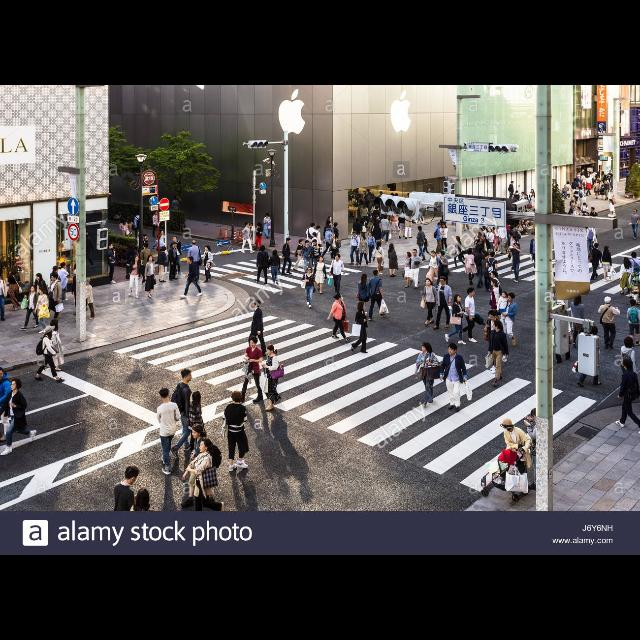head: (126, 466, 140, 484), (198, 439, 212, 453), (137, 488, 149, 504), (10, 378, 22, 392), (192, 424, 202, 440), (532, 408, 542, 422), (182, 371, 194, 382), (492, 321, 504, 332), (503, 419, 513, 431), (448, 344, 458, 356), (488, 310, 498, 322), (192, 391, 202, 402), (160, 390, 170, 400), (233, 392, 243, 402), (624, 360, 634, 370), (624, 337, 634, 347), (250, 338, 258, 349), (46, 326, 54, 336), (50, 320, 60, 328), (267, 346, 275, 356), (508, 292, 516, 302), (38, 288, 46, 296), (252, 300, 260, 308), (358, 303, 366, 311), (335, 294, 343, 302), (467, 288, 475, 296), (454, 295, 462, 303), (440, 277, 448, 285), (438, 250, 446, 258), (604, 297, 612, 305), (630, 300, 638, 308), (630, 252, 638, 260), (51, 274, 58, 282), (422, 343, 428, 352), (0, 367, 4, 380), (36, 274, 42, 282), (61, 262, 67, 270), (84, 278, 90, 286), (108, 242, 114, 250), (426, 278, 432, 286), (490, 280, 498, 286), (490, 272, 498, 278), (467, 248, 473, 256), (485, 252, 491, 260), (576, 296, 582, 304), (188, 258, 195, 264), (318, 255, 324, 262), (374, 270, 381, 276), (30, 286, 36, 292), (53, 266, 59, 272), (134, 256, 140, 262), (148, 256, 154, 262), (143, 243, 149, 249), (205, 246, 211, 252), (172, 236, 178, 242), (306, 268, 312, 274), (272, 250, 278, 256), (260, 245, 266, 251), (299, 240, 305, 246), (304, 241, 310, 247), (312, 232, 318, 238), (362, 275, 368, 281), (406, 253, 412, 259), (413, 250, 419, 256), (502, 292, 508, 298), (490, 252, 496, 258), (534, 234, 540, 240), (604, 246, 610, 252), (172, 244, 178, 248), (192, 241, 196, 247), (246, 222, 250, 228), (258, 223, 262, 229), (286, 240, 292, 244), (313, 240, 317, 246), (336, 255, 340, 261), (317, 226, 321, 232), (332, 232, 336, 238), (328, 226, 332, 232), (334, 222, 338, 228), (326, 222, 332, 226), (353, 232, 357, 238), (360, 236, 366, 240), (369, 232, 373, 238), (377, 242, 381, 248), (432, 251, 436, 257), (418, 226, 422, 232), (384, 214, 388, 220), (456, 236, 460, 242), (477, 248, 483, 252), (514, 243, 518, 249), (624, 257, 628, 263), (594, 244, 600, 248), (634, 210, 638, 216), (1, 274, 4, 280), (12, 270, 16, 274), (162, 248, 166, 252), (154, 212, 158, 216), (122, 219, 126, 223), (136, 212, 140, 216), (266, 214, 270, 218), (312, 224, 316, 228), (328, 216, 332, 220), (390, 244, 394, 248), (438, 224, 442, 228), (442, 224, 446, 228), (128, 220, 132, 222), (422, 238, 426, 240), (422, 236, 426, 238), (174, 198, 176, 200)
person: (177, 422, 223, 512), (180, 437, 228, 523), (1, 376, 40, 458), (498, 418, 534, 497), (220, 391, 252, 474), (440, 342, 474, 414), (523, 407, 551, 493), (169, 368, 195, 460), (156, 387, 182, 477), (236, 336, 266, 404), (412, 341, 442, 409), (33, 326, 67, 384), (258, 343, 286, 412), (484, 320, 510, 388), (458, 286, 486, 346), (244, 299, 270, 363), (186, 389, 208, 461), (482, 309, 506, 375), (596, 295, 622, 351), (326, 292, 352, 344), (444, 294, 470, 346), (42, 319, 66, 373), (620, 336, 640, 400), (0, 366, 16, 444), (366, 270, 390, 322), (498, 292, 520, 348), (432, 276, 454, 330), (178, 255, 204, 299), (47, 271, 65, 333), (19, 284, 41, 332), (350, 302, 370, 354), (30, 272, 50, 322), (420, 278, 440, 326), (328, 252, 347, 300), (570, 293, 586, 349), (6, 265, 24, 313), (33, 287, 51, 335), (434, 250, 454, 292), (354, 273, 372, 319), (186, 240, 204, 284), (598, 245, 618, 283), (300, 268, 318, 310), (80, 276, 96, 322), (253, 245, 270, 287), (408, 248, 424, 292), (488, 270, 502, 320), (586, 243, 604, 281), (312, 254, 328, 296), (484, 251, 500, 293), (506, 243, 522, 284), (292, 238, 310, 274), (139, 240, 153, 286), (202, 244, 218, 284), (528, 233, 544, 273), (128, 256, 142, 300), (144, 255, 158, 299), (451, 235, 469, 269), (266, 249, 282, 287), (300, 239, 316, 277), (426, 250, 442, 288), (56, 262, 70, 304), (320, 225, 336, 261), (619, 256, 633, 296), (48, 266, 62, 304), (157, 246, 171, 284), (280, 238, 294, 276), (310, 238, 324, 276), (309, 231, 323, 269), (464, 248, 478, 286), (240, 222, 256, 254), (327, 231, 343, 263), (105, 242, 117, 284), (167, 240, 179, 282), (322, 219, 336, 255), (347, 230, 361, 266), (372, 240, 386, 276), (481, 251, 493, 293), (490, 278, 500, 326), (170, 235, 182, 273), (402, 251, 414, 289), (306, 222, 318, 258), (312, 224, 324, 260), (328, 222, 340, 258), (414, 226, 426, 262), (497, 291, 509, 327), (474, 247, 484, 290), (356, 235, 369, 268), (387, 244, 399, 278), (433, 222, 445, 255), (0, 274, 8, 322), (252, 221, 264, 253), (125, 215, 137, 245), (438, 223, 449, 255), (134, 210, 144, 244), (119, 216, 131, 244), (170, 194, 182, 222), (366, 232, 376, 264), (380, 214, 390, 246), (421, 233, 433, 257), (152, 211, 162, 239), (324, 216, 334, 244), (264, 212, 272, 240), (422, 237, 432, 257)
